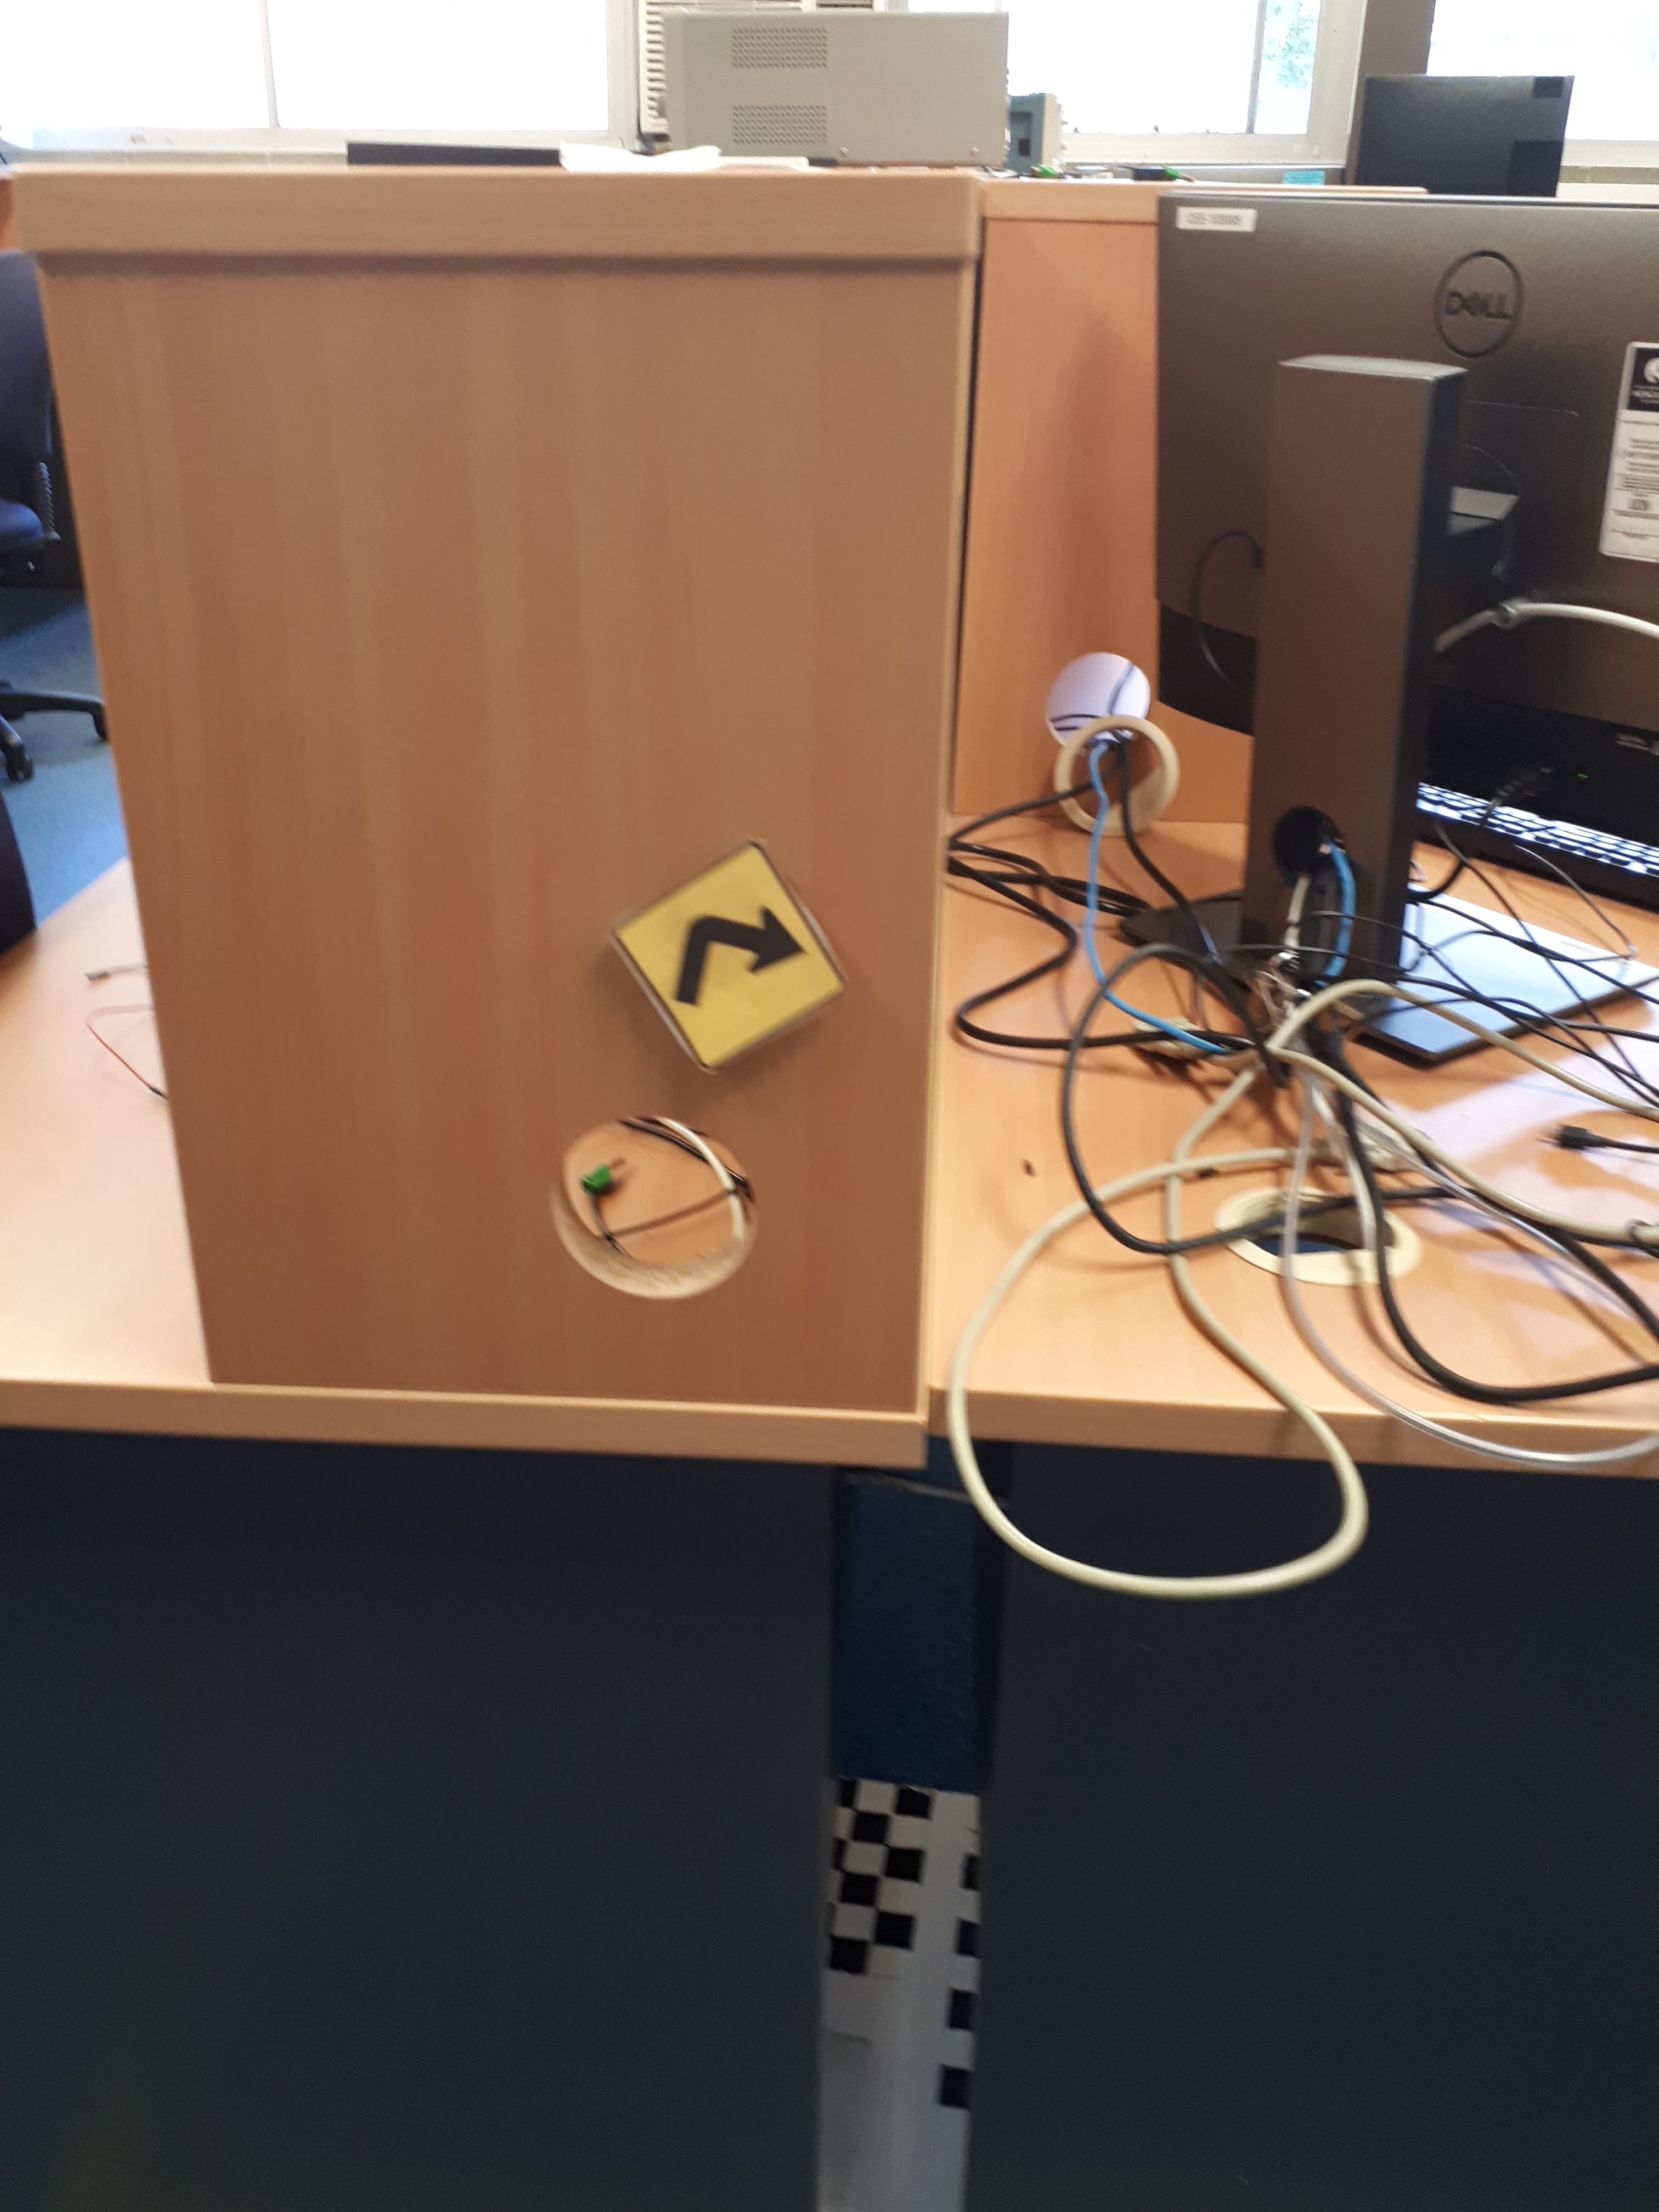right: (666, 857, 884, 1261), (606, 792, 863, 1092)
